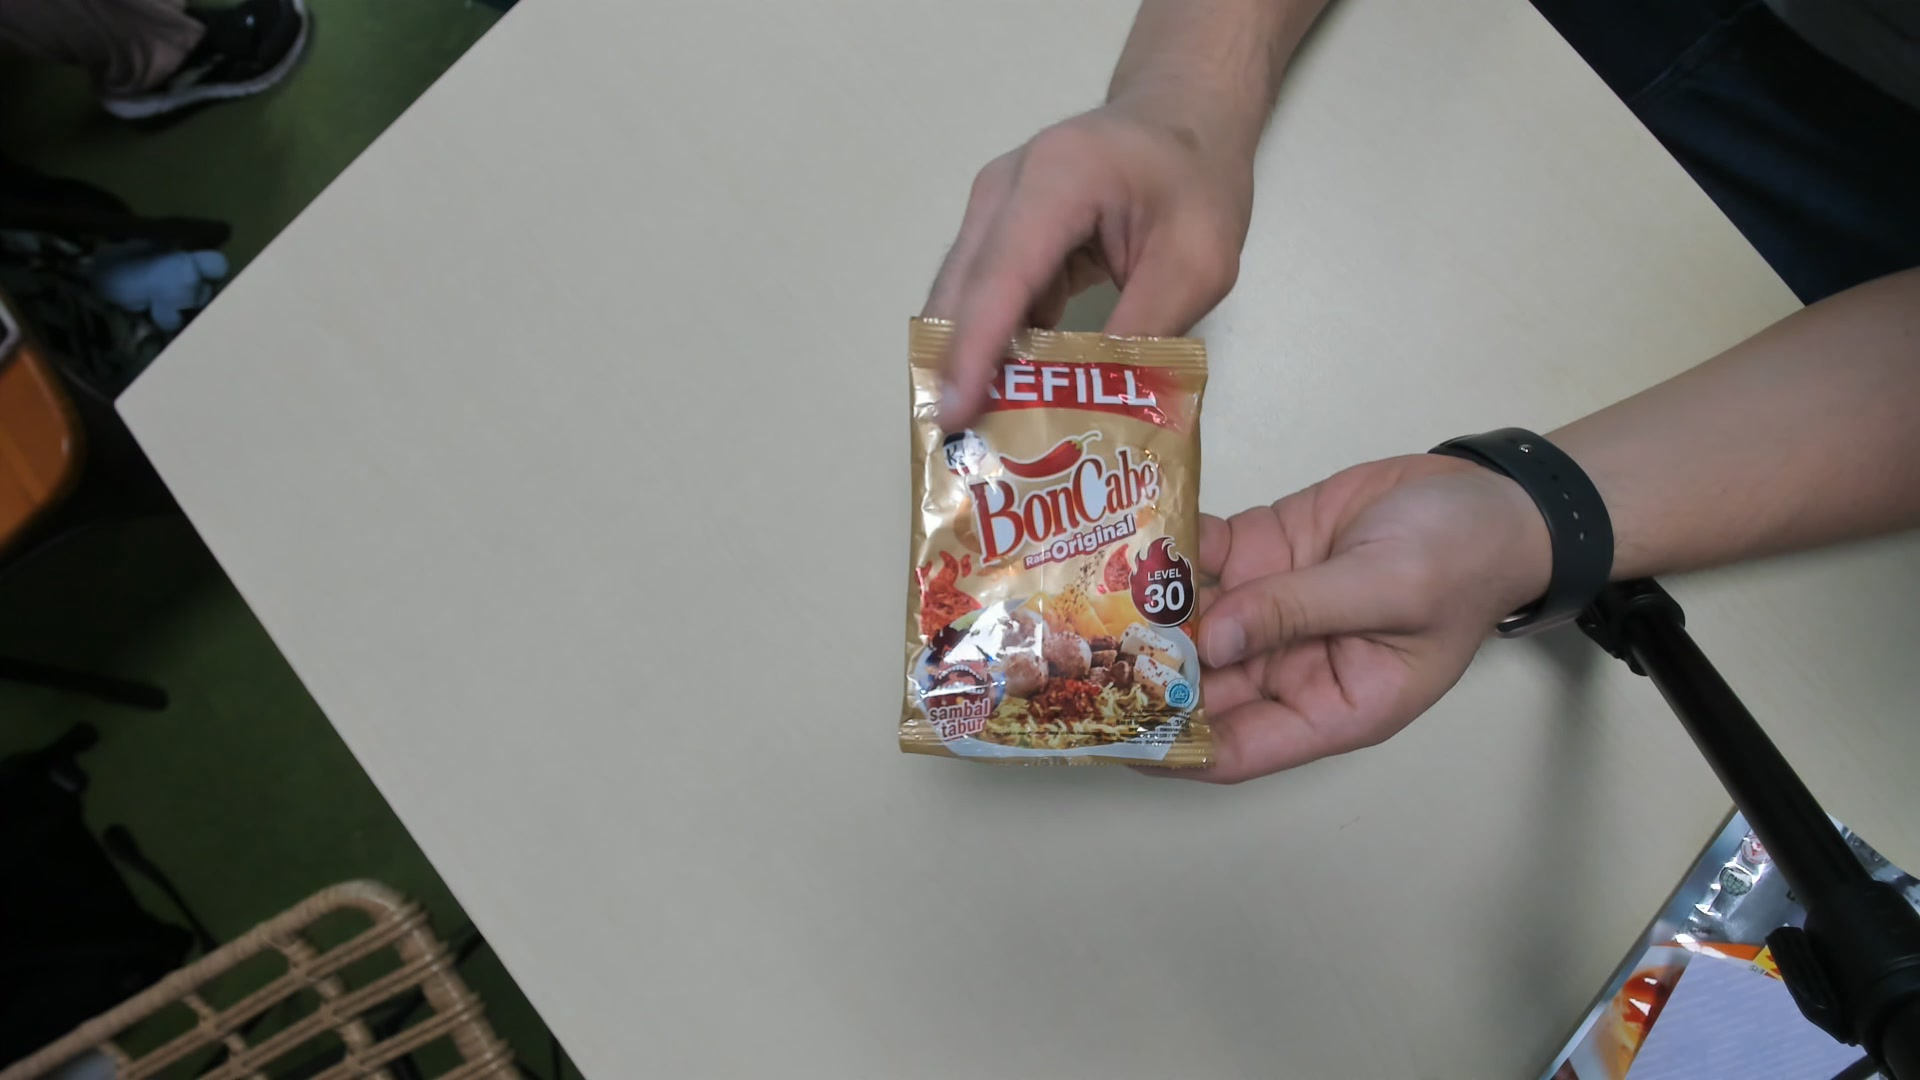CurryPastePowderSauce_0-99g_Halal_NonHealthy: (898, 310, 1208, 767)
